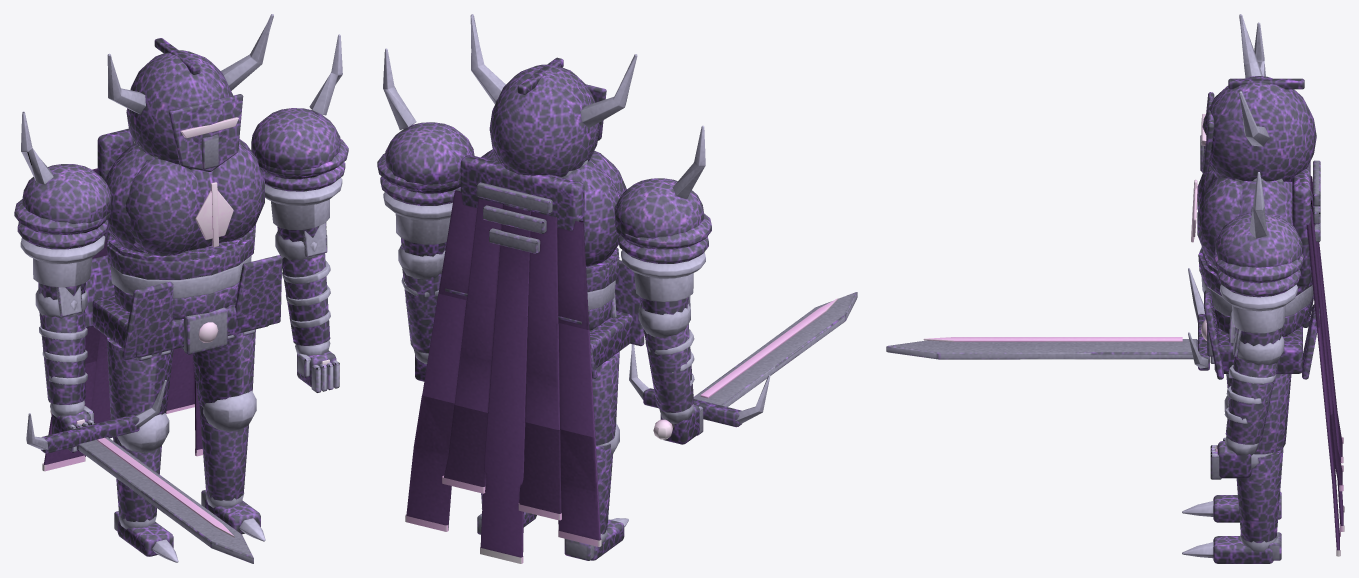
The model's file is Knight.glb.
The picture shows the model from 3 angles, left to right: view 1: azimuth 30°, elevation 25°; view 2: azimuth 150°, elevation 25°; view 3: azimuth 270°, elevation 25°; orthographic projection. The views are drawn at different scales.
Visible parts, largest first — view 1: Knight_spine, Knight_head, Knight_hips, Knight_upperArmR, Knight_upperArmL, Knight_sword, Knight_upperLegL, Knight_upperLegR, Knight_lowerArmR, Knight_lowerArmL, Knight_lowerLegL, Knight_lowerLegR (+9 smaller); view 2: Knight_spine, Knight_head, Knight_upperArmR, Knight_upperArmL, Knight_sword, Knight_capeC3, Knight_capeE3, Knight_capeA3, Knight_capeC2, Knight_capeA2, Knight_capeB2, Knight_capeB3 (+15 smaller); view 3: Knight_head, Knight_upperArmL, Knight_spine, Knight_sword, Knight_lowerArmL, Knight_lowerLegL, Knight_hips, Knight_upperLegL, Knight_footL, Knight_handL, Knight_footR, Knight_capeE3.
Part boxes in pixels (box(x1,y1,x2,y2)): Knight_spine: box(97, 128, 264, 319); Knight_head: box(107, 14, 273, 171); Knight_hips: box(85, 255, 282, 360); Knight_upperArmR: box(14, 111, 111, 318); Knight_upperArmL: box(251, 34, 348, 260); Knight_sword: box(26, 380, 253, 563); Knight_upperLegL: box(192, 329, 256, 431); Knight_upperLegR: box(106, 337, 173, 452); Knight_lowerArmR: box(39, 286, 87, 404); Knight_lowerArmL: box(280, 222, 330, 345); Knight_lowerLegL: box(199, 392, 248, 508); Knight_lowerLegR: box(113, 436, 161, 529); Knight_spine: box(460, 149, 626, 330); Knight_head: box(470, 14, 637, 176); Knight_upperArmR: box(614, 125, 711, 337); Knight_upperArmL: box(377, 48, 474, 279); Knight_sword: box(629, 292, 857, 439); Knight_capeC3: box(480, 413, 525, 563); Knight_capeE3: box(405, 395, 454, 531); Knight_capeA3: box(558, 429, 601, 546); Knight_capeC2: box(488, 309, 527, 422); Knight_capeA2: box(558, 323, 595, 437); Knight_capeB2: box(525, 316, 559, 429); Knight_capeB3: box(518, 422, 561, 520); Knight_head: box(1200, 14, 1316, 182); Knight_upperArmL: box(1214, 172, 1303, 365); Knight_spine: box(1191, 160, 1320, 336); Knight_sword: box(886, 268, 1209, 370); Knight_lowerArmL: box(1224, 328, 1278, 444); Knight_lowerLegL: box(1236, 448, 1283, 551); Knight_hips: box(1201, 290, 1319, 379); Knight_upperLegL: box(1226, 311, 1291, 469); Knight_footL: box(1182, 532, 1281, 563); Knight_handL: box(1210, 436, 1258, 479); Knight_footR: box(1182, 492, 1281, 522); Knight_capeE3: box(1327, 416, 1340, 556).
Bounding box in the file's own units: 2.57 × 3.52 × 3.01.
1 material, 1 textured.
